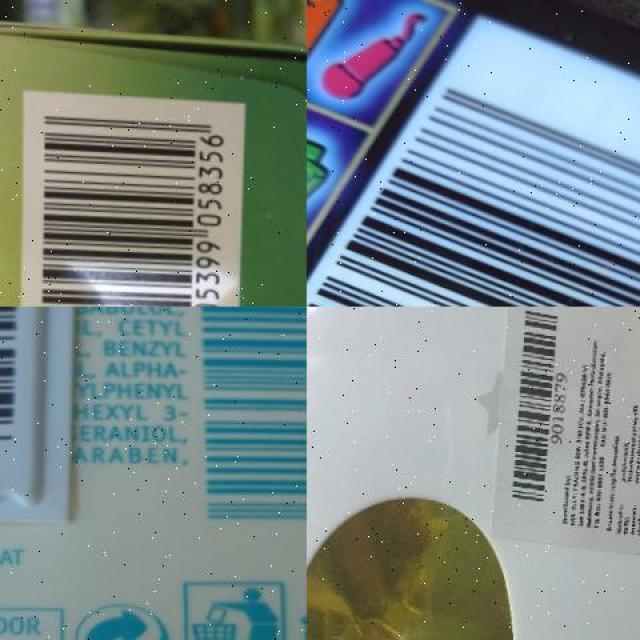Barcode: (306, 1, 640, 306), (16, 88, 245, 307), (181, 307, 307, 569), (499, 307, 565, 516)
